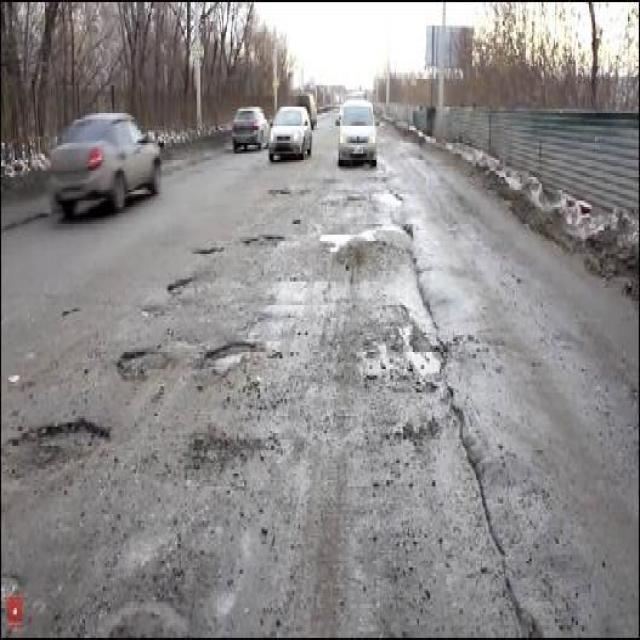Pothole: (3, 415, 113, 471), (190, 430, 244, 475), (204, 334, 261, 374), (115, 340, 159, 387), (244, 227, 289, 255), (169, 270, 195, 298), (195, 242, 228, 257)
